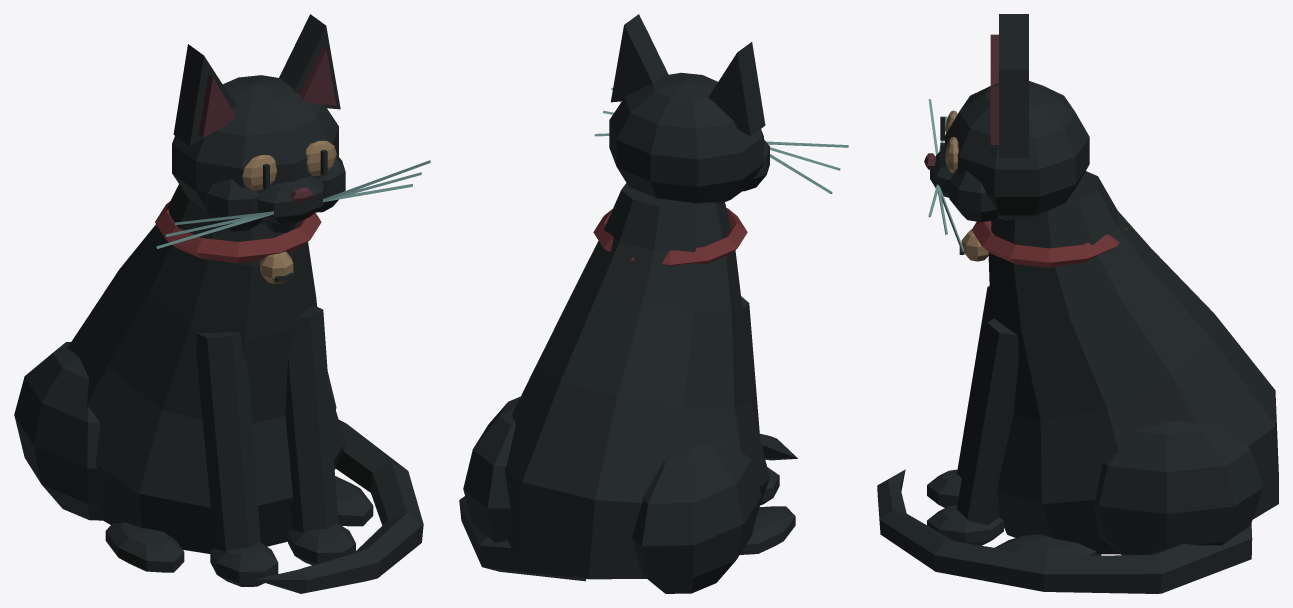
Rendered from pisica.glb.
3 renders of one model, left to right at view 1: azimuth 30°, elevation 25°; view 2: azimuth 150°, elevation 25°; view 3: azimuth 270°, elevation 25°, orthographic. The views are drawn at different scales.
Parts seen in each view (by area): view 1: Corp, Cap, Coada, Ochi; view 2: Corp, Cap, Coada; view 3: Corp, Cap, Coada, Ochi.
Boxes of the visible parts, x1,y1,x2,y2 form: Corp: (14, 184, 373, 586); Cap: (156, 14, 430, 248); Coada: (254, 420, 423, 593); Ochi: (242, 140, 336, 190); Corp: (463, 183, 795, 593); Cap: (594, 14, 848, 203); Coada: (459, 433, 797, 581); Corp: (927, 171, 1278, 556); Cap: (924, 14, 1089, 251); Coada: (877, 469, 1252, 593); Ochi: (940, 110, 958, 173).
Bounding box in the file's own units: 0.2788 × 0.4459 × 0.335.
